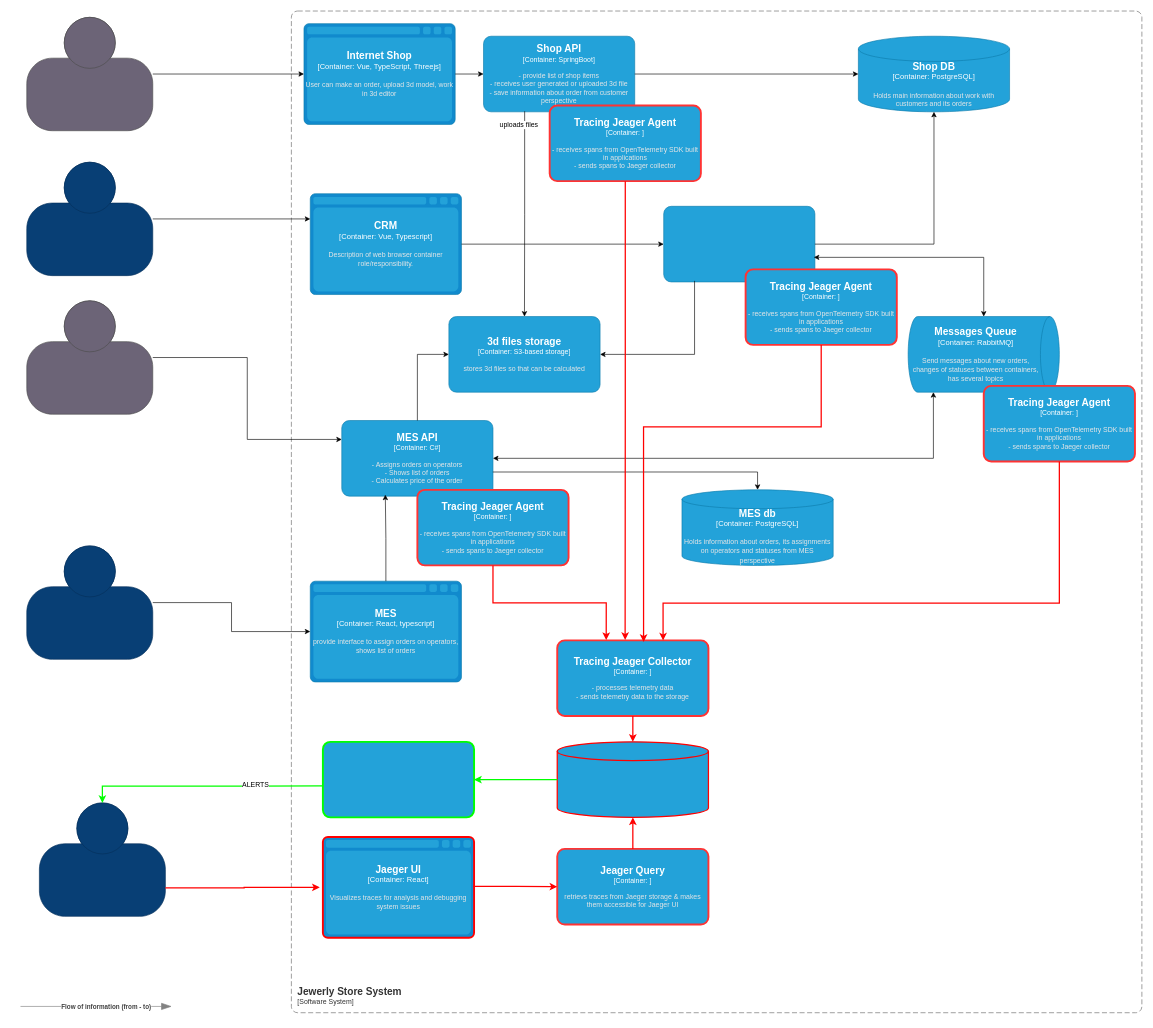
This 1153x1028 diagram has some shape labels left out. Each missing label, with the box of its shape:
API user [Person] Description of external person.: (26, 300, 153, 414)
CRM API [Container: SpringBoot] Description of container role/responsibility.: (663, 206, 815, 282)
Customer [Person] Description of external person.: (26, 17, 153, 131)
Grafana [Container: ] - analyzes span traces - fires configured alerts: (322, 741, 475, 818)
Jeager storage backend [Container: ElasticSearch] - stores telemetry data: (556, 741, 709, 818)
OnCall IT Support Engineer [Person] OnCall 24x7 team: (39, 802, 165, 916)
Operator [Person] Takes order in work, manufactures jewerly: (26, 545, 153, 659)
Seller [Person] Operates with order, confirms manufacturing for the user: (26, 162, 153, 276)
